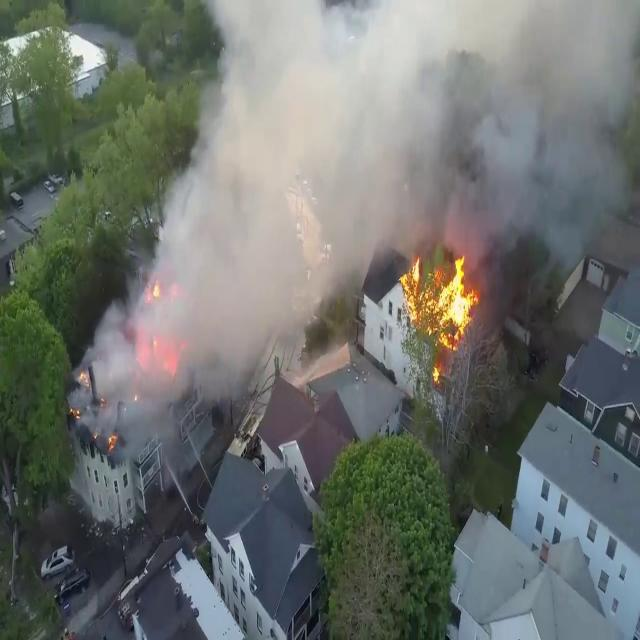Fire: (396, 245, 482, 360)
Smoke: (113, 1, 640, 262), (89, 0, 358, 444)
